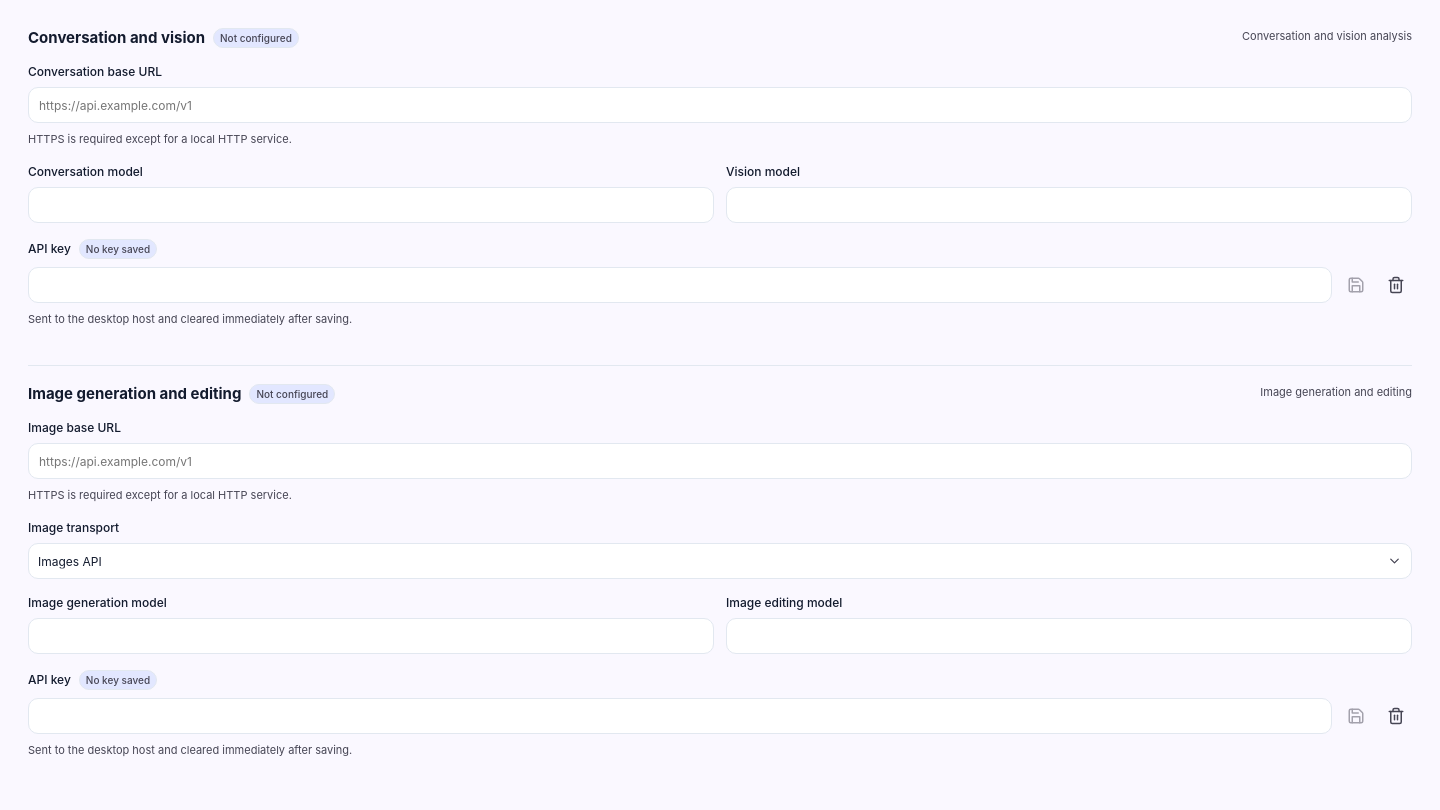
Test: clears the conversation secret after a successful save and exposes both profiles
Check: the heading "Conversation and vision" is shown, box [28,28,205,48]
Check: the heading "Image generation and editing" is shown, box [28,384,241,404]
Type "secret-value" into the password field named "Conversation and vision API key" at (680, 284), box [28,266,1332,302]
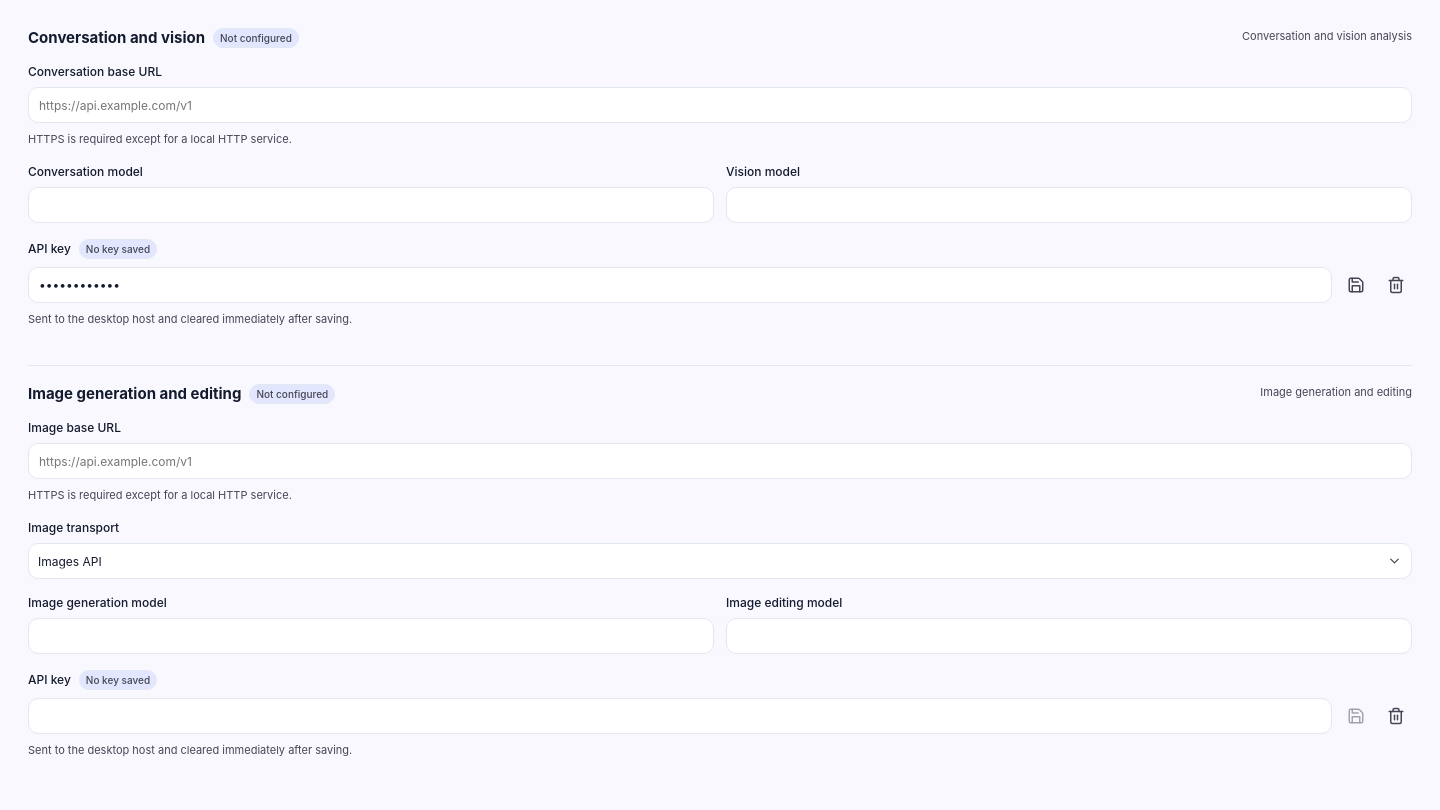
Click the button named "Save key" below "Conversation and vision analysis" at (1356, 284), box [1340,268,1372,300]
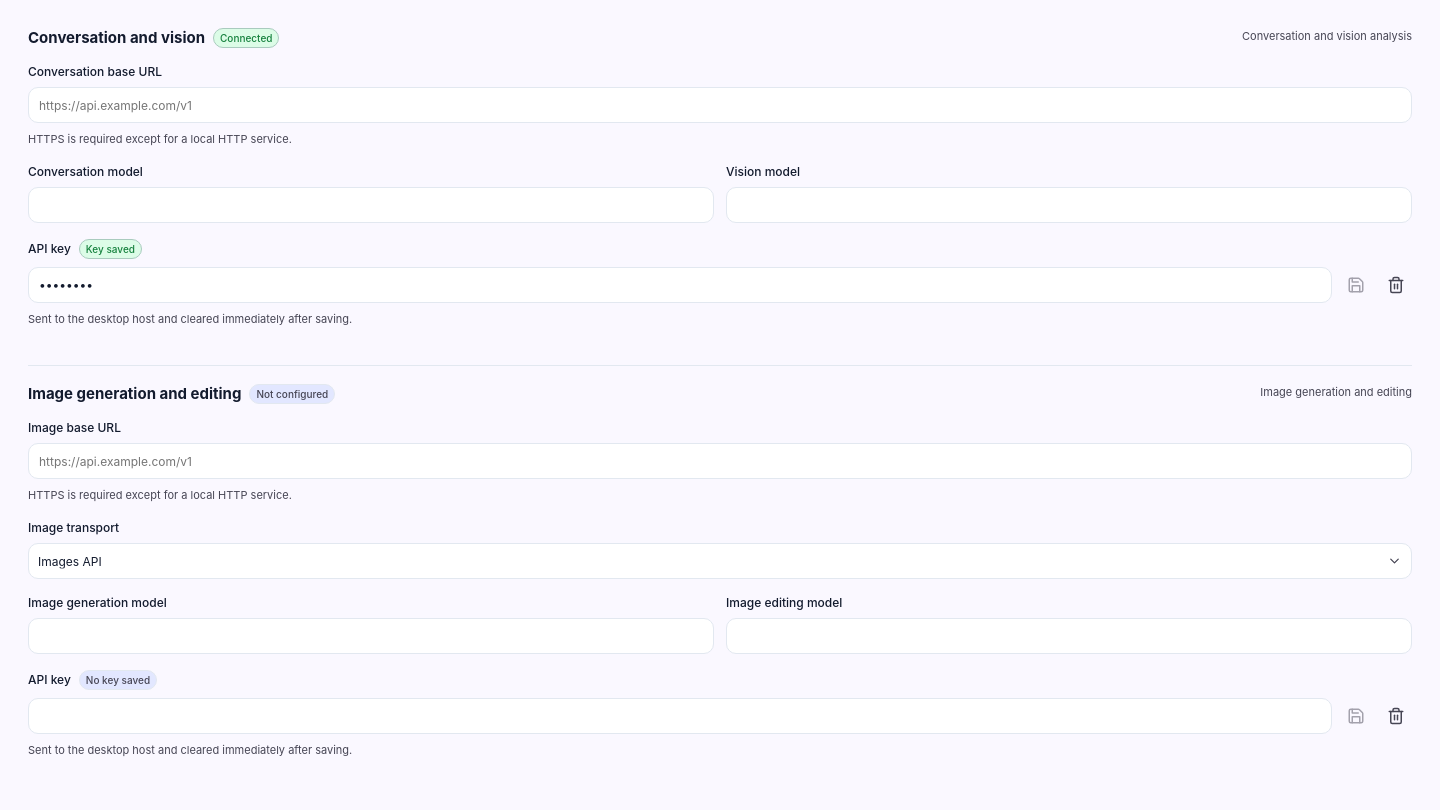
Check: the password field named "Conversation and vision API key" holds "********", box [28,266,1332,302]
